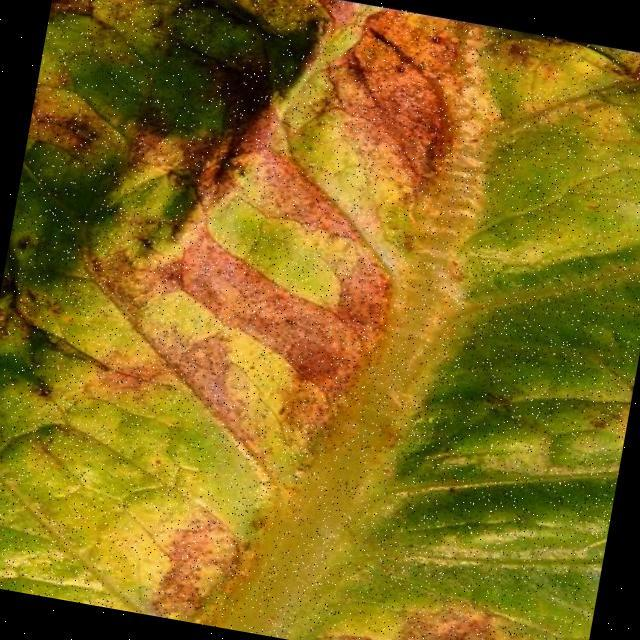Septoria_Blight_on_lettuce: (0, 0, 466, 640)
